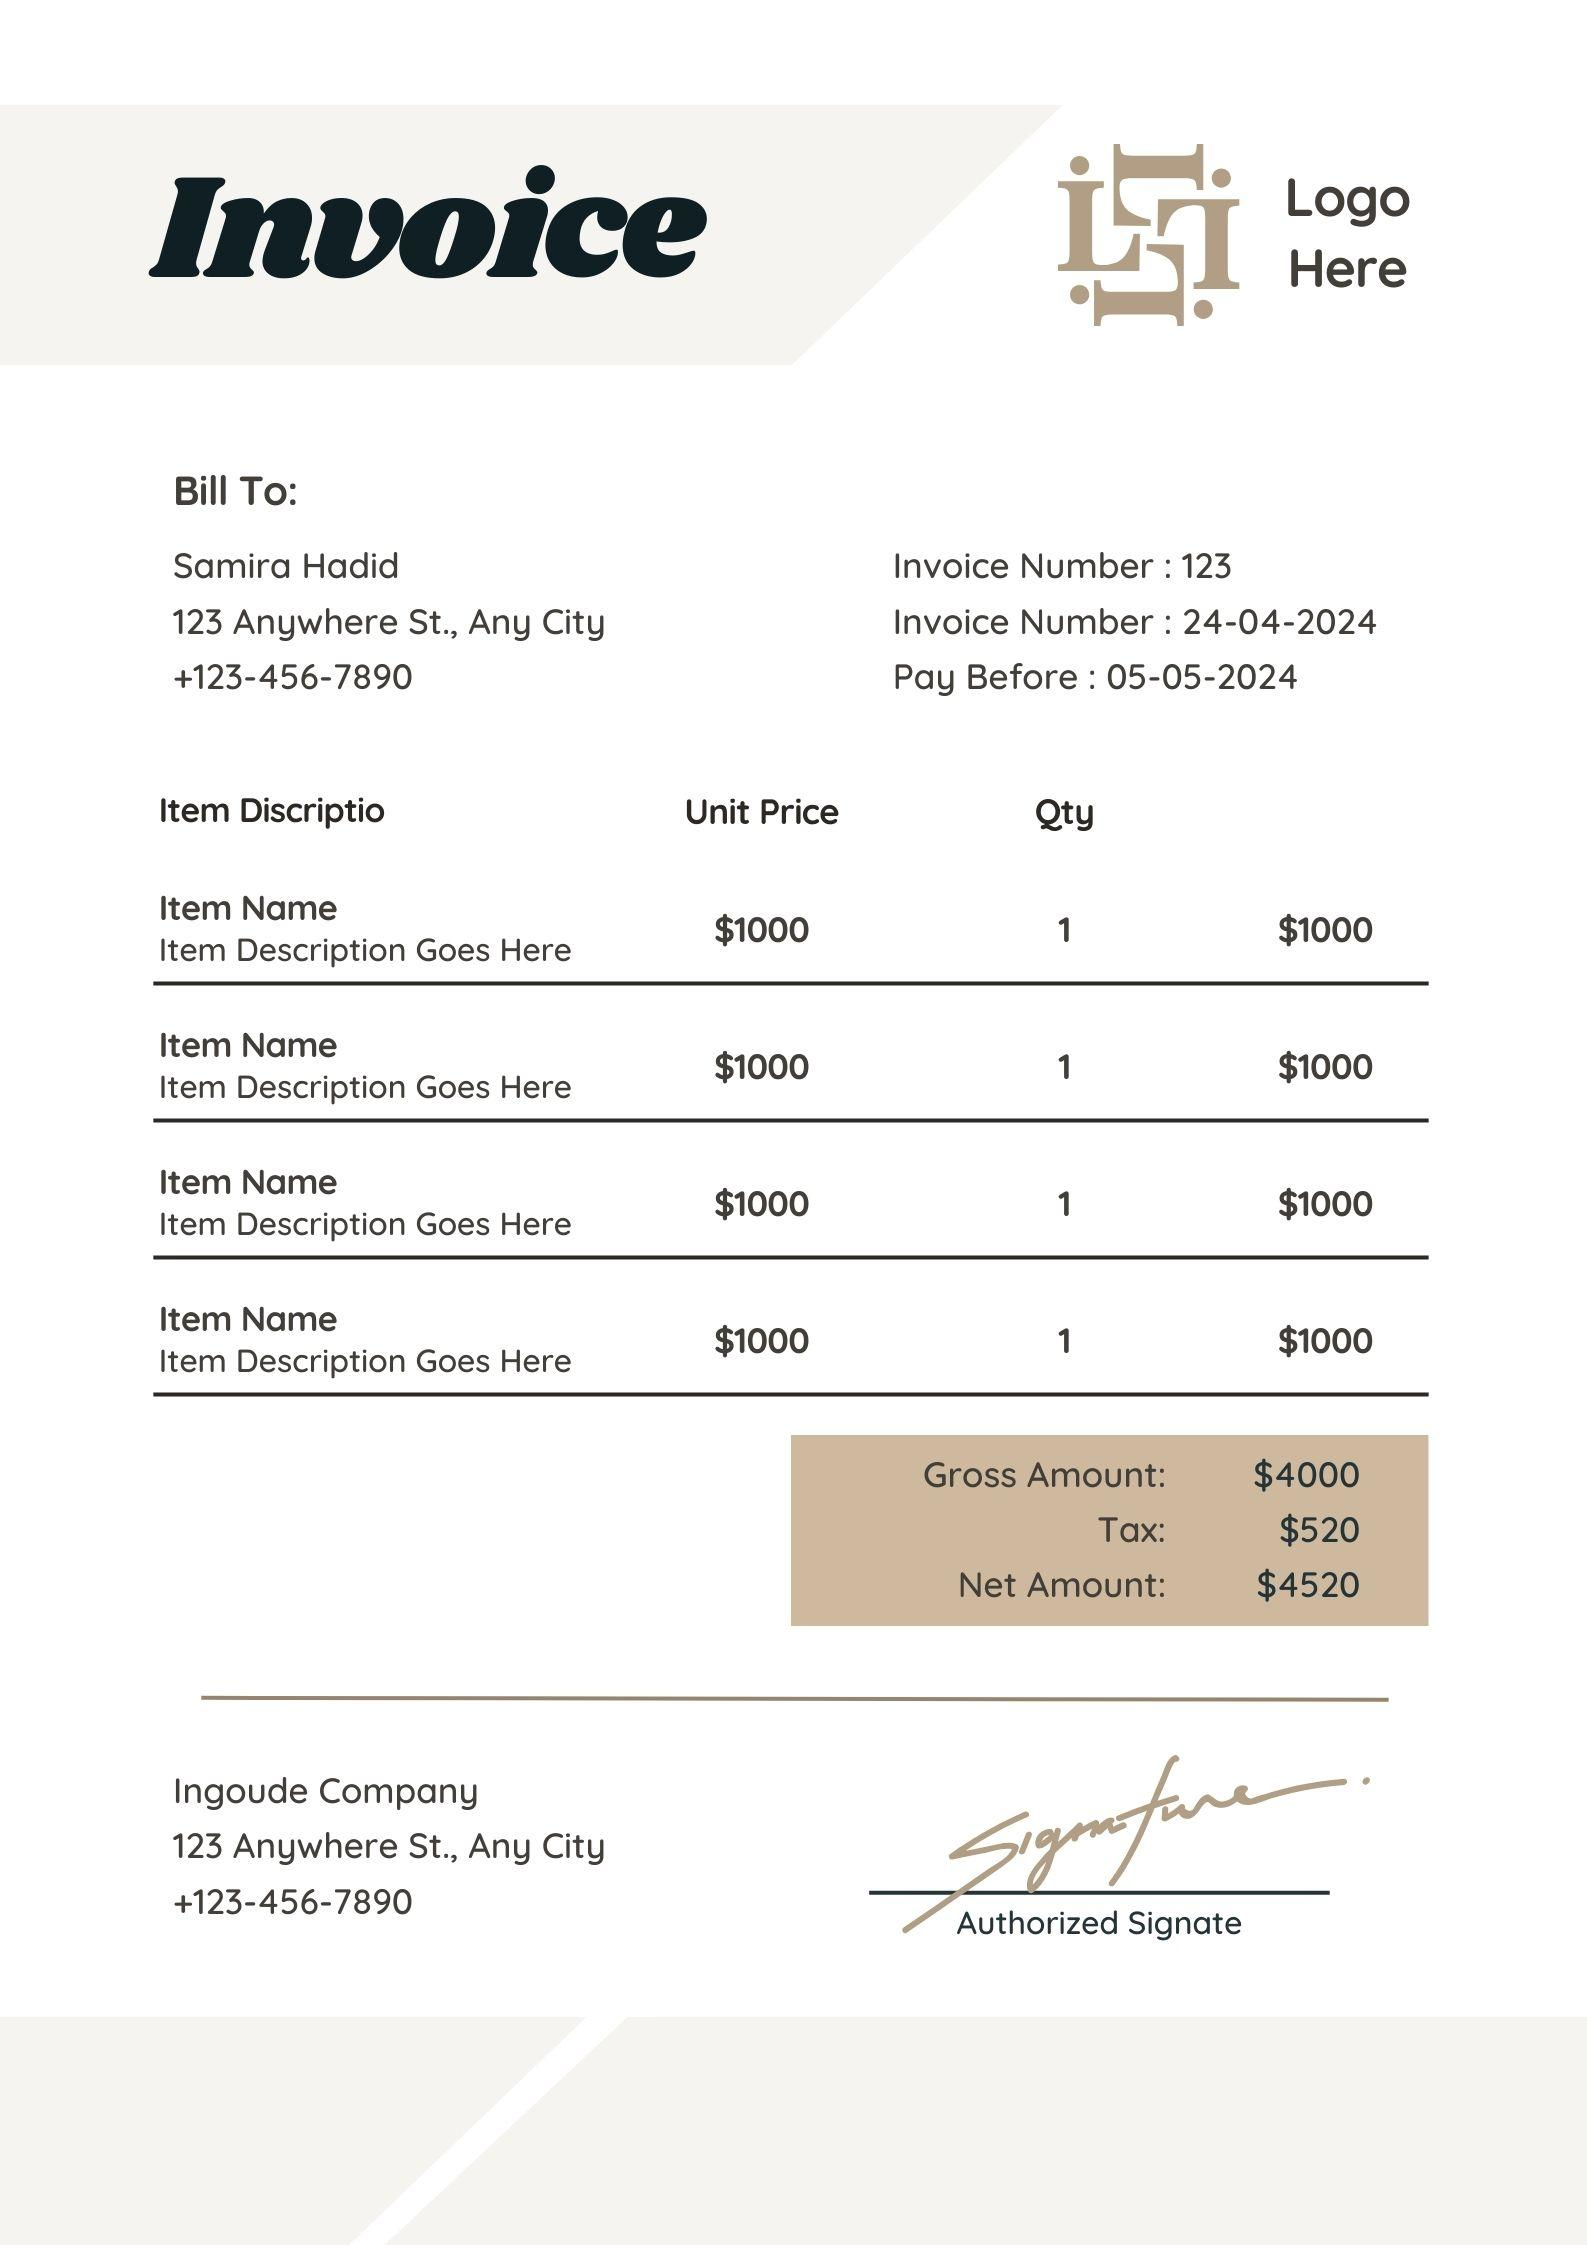ROI: (141, 780, 1460, 1410), (156, 460, 649, 720), (790, 1439, 1427, 1637), (156, 1761, 634, 1943), (879, 543, 1389, 706)
